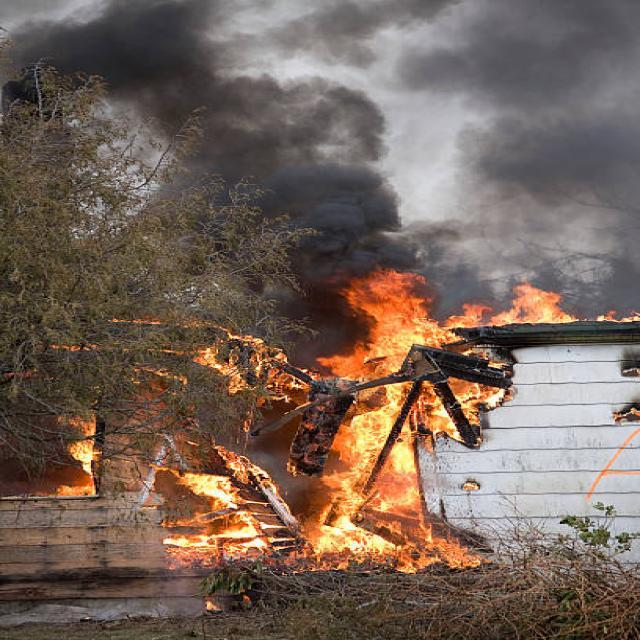Fire: (112, 266, 518, 548)
Smoke: (98, 4, 640, 313)
